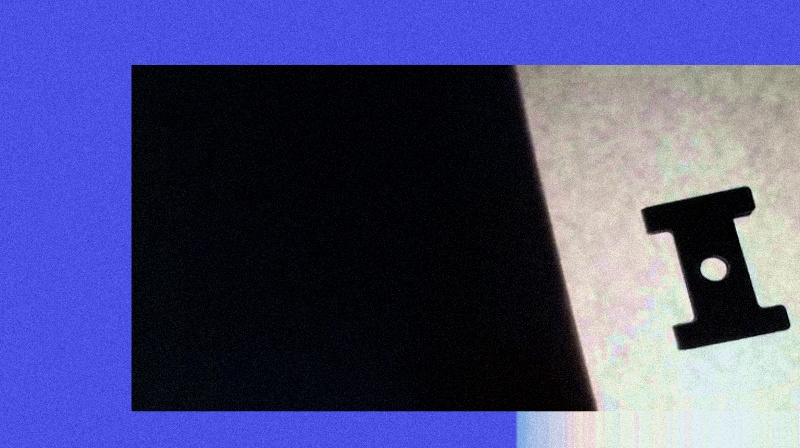O002: (637, 182, 799, 351)
